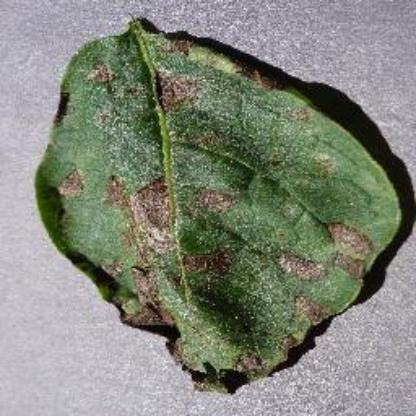Early-Blight: (32, 11, 416, 397)
